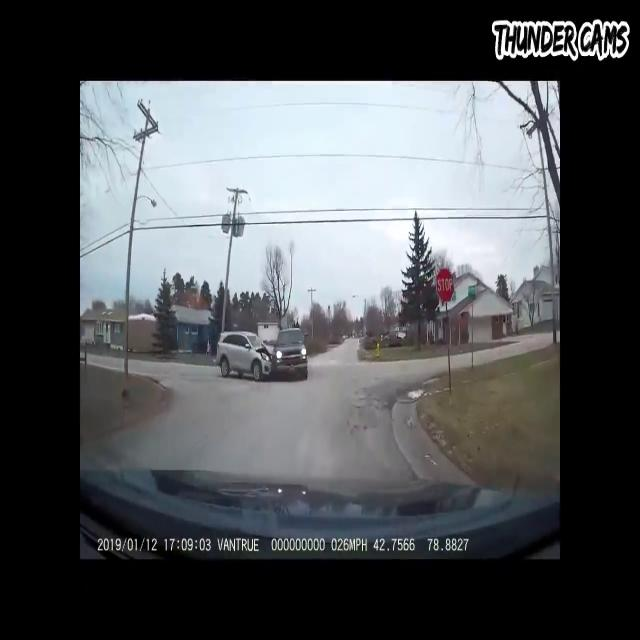accident: (212, 327, 318, 387)
